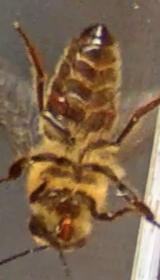varroa_mite: (41, 84, 80, 119)
